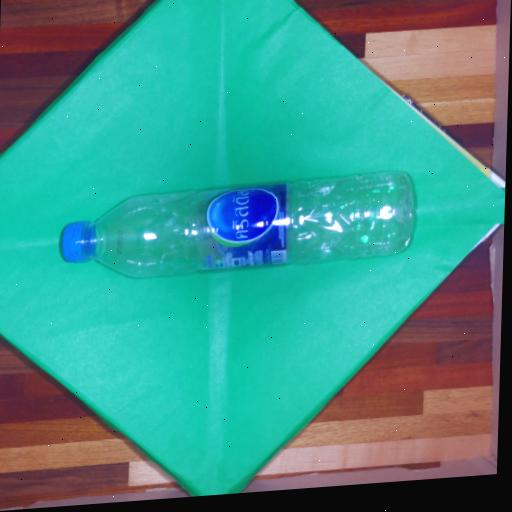bottle: (61, 172, 412, 277)
